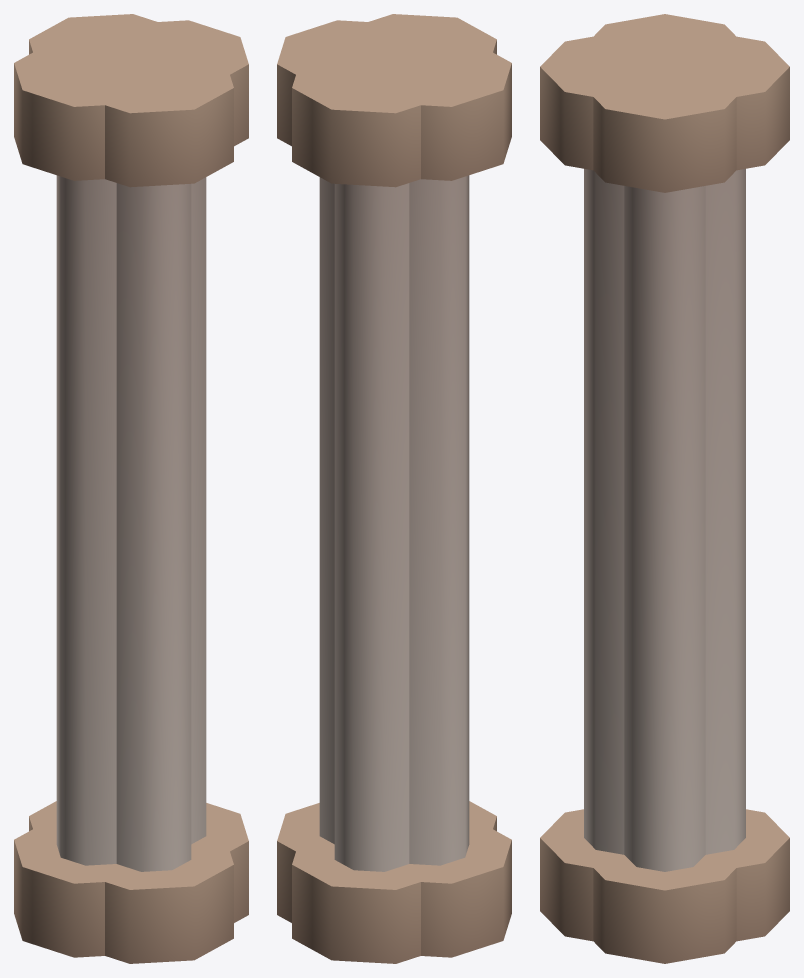
The model's file is column-decorative.glb.
3 renders of one model, left to right at view 1: azimuth 30°, elevation 25°; view 2: azimuth 150°, elevation 25°; view 3: azimuth 270°, elevation 25°, orthographic.
Parts seen in each view (by area): view 1: column-decorative; view 2: column-decorative; view 3: column-decorative.
Boxes of the visible parts, <box> form: column-decorative: <box>14,14,248,963</box>; column-decorative: <box>277,14,511,963</box>; column-decorative: <box>540,14,789,963</box>.
Size of the model in its own units: 0.6165 by 2.3 by 0.6165.
